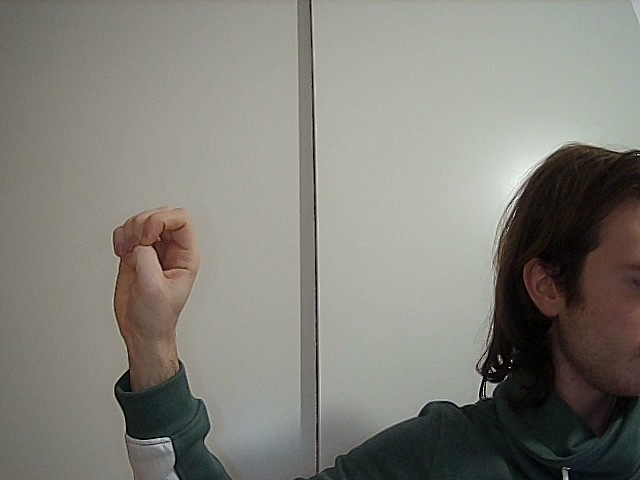e: (94, 197, 213, 339)
